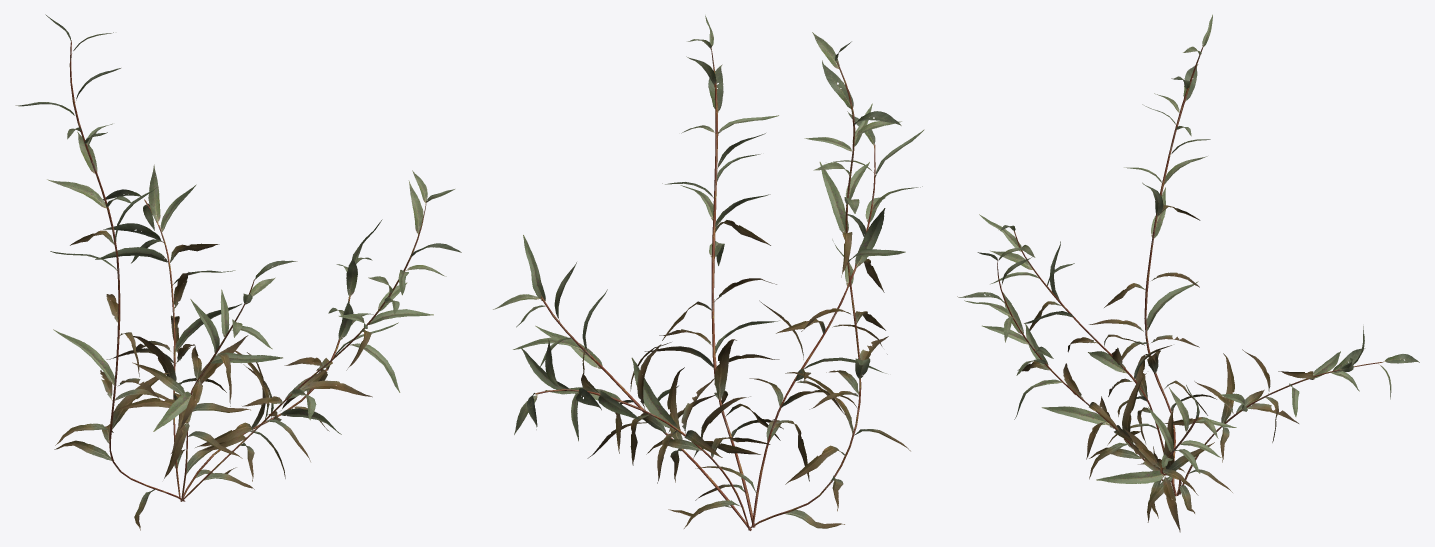
Rendered from Scan_Shrub_A.fbx.
3 renders of one model, left to right at view 1: azimuth 30°, elevation 25°; view 2: azimuth 150°, elevation 25°; view 3: azimuth 270°, elevation 25°, orthographic. The views are drawn at different scales.
Visible parts, largest first — view 1: Scan_Shrub_A_LOD0; view 2: Scan_Shrub_A_LOD0; view 3: Scan_Shrub_A_LOD0.
Boxes of the visible parts, left/top/right/bottom form: Scan_Shrub_A_LOD0: left=15, top=14, right=461, bottom=530; Scan_Shrub_A_LOD0: left=493, top=15, right=924, bottom=530; Scan_Shrub_A_LOD0: left=957, top=14, right=1419, bottom=532.
Size of what is drawn, in the model's own units: 1.31 by 1.69 by 1.64.
